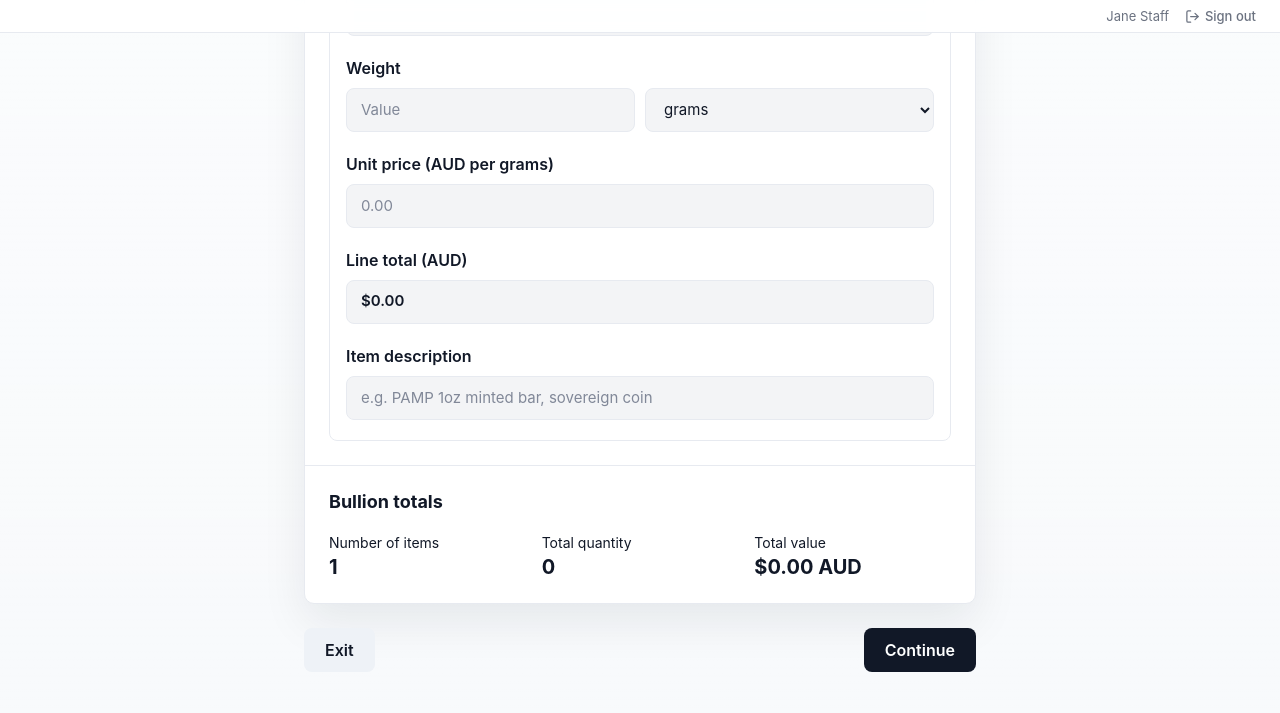
Test: BullionDetailsPage › shows validation errors for metalType, productType, purity, quantity, weight, and unitPrice when empty on continue
This screenshot has width=1280, height=713.
(page scrolled)
Click the button "Continue": (920, 650) [864,628,976,672]
(page scrolled)
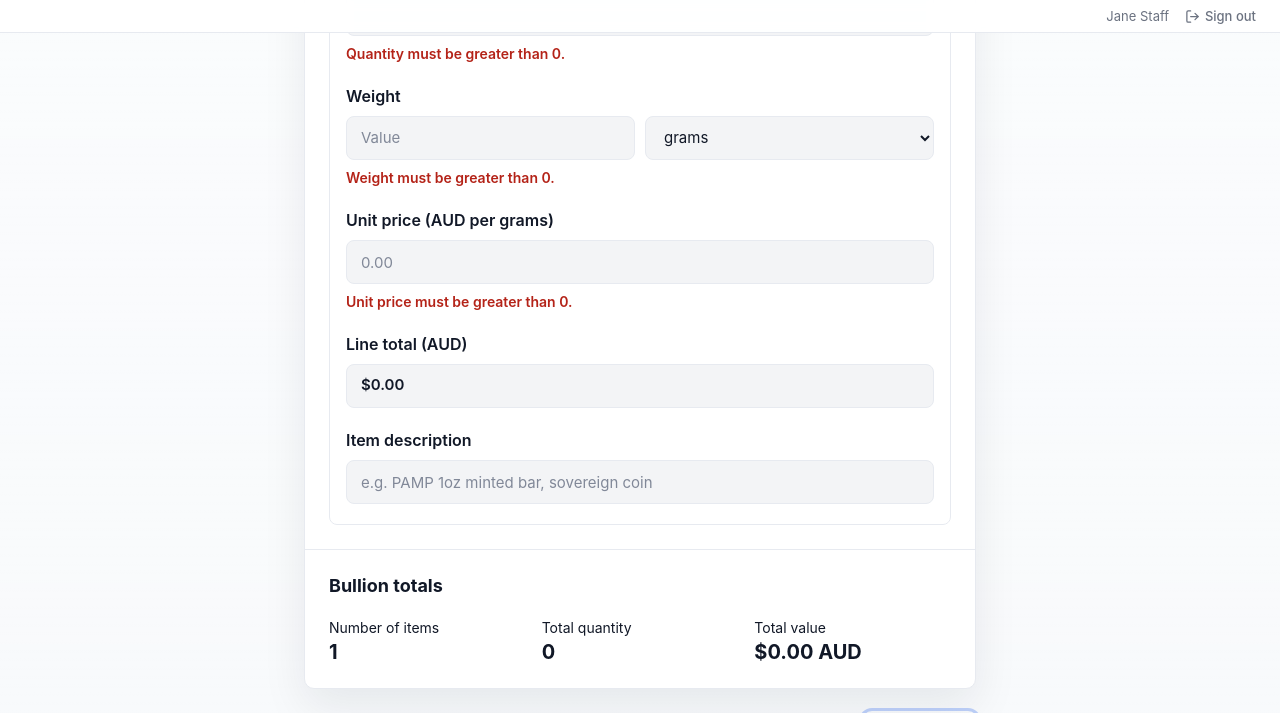
expect the text "Quantity must be greater than 0." is shown: met, box [346,44,565,62]
expect the text "Weight must be greater than 0." is shown: met, box [346,169,555,186]
expect the text "Unit price must be greater than 0." is shown: met, box [346,293,572,310]
